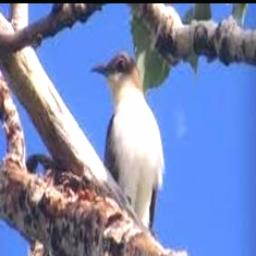Cuckoo: (88, 53, 164, 231)
